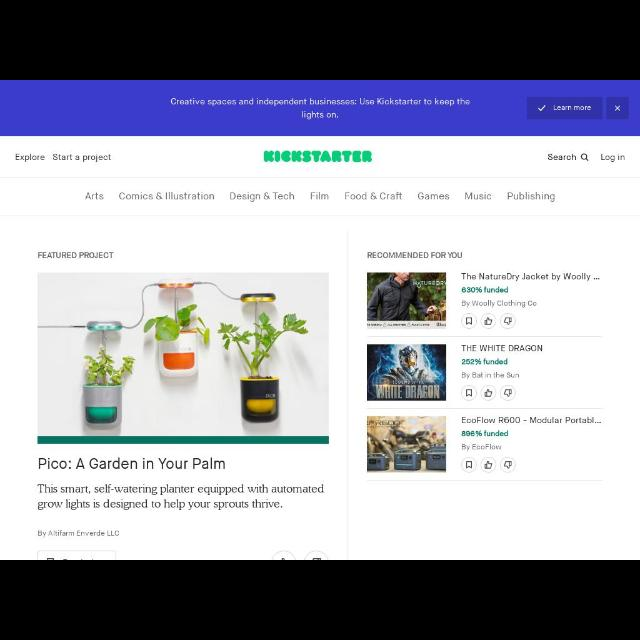button: (606, 98, 630, 119), (500, 313, 516, 329), (480, 314, 496, 328), (482, 385, 496, 401), (500, 386, 516, 400), (480, 458, 496, 472), (500, 458, 516, 472), (462, 314, 476, 328), (462, 386, 476, 400), (462, 458, 476, 472)
icon: (581, 154, 589, 162), (504, 461, 512, 469), (504, 389, 512, 397), (485, 389, 493, 396), (538, 105, 546, 111), (484, 318, 492, 324), (504, 318, 512, 324), (484, 462, 492, 468), (466, 389, 472, 397), (614, 105, 620, 111), (466, 318, 472, 324), (466, 462, 472, 468)
image: (38, 272, 328, 443), (368, 273, 447, 329), (368, 344, 447, 400), (368, 417, 447, 473), (264, 150, 372, 162)
text: (38, 484, 324, 496), (38, 500, 282, 510), (170, 98, 470, 106), (38, 458, 225, 470), (462, 273, 600, 281), (462, 416, 600, 424), (120, 192, 214, 200), (39, 530, 120, 538), (230, 192, 294, 202), (462, 344, 542, 352), (462, 300, 536, 308), (368, 252, 462, 258), (462, 372, 520, 380), (508, 192, 554, 202), (38, 252, 114, 258), (54, 154, 110, 162), (346, 192, 402, 200), (462, 430, 508, 438), (462, 358, 508, 366), (302, 110, 338, 120), (462, 444, 502, 451), (462, 287, 508, 293), (418, 192, 449, 200), (16, 154, 44, 162), (466, 192, 492, 200), (602, 154, 624, 162), (548, 154, 576, 160), (554, 106, 590, 110), (85, 192, 103, 200), (312, 192, 328, 200)
textbutton: (528, 98, 602, 119)
toolbar: (1, 137, 640, 216)
